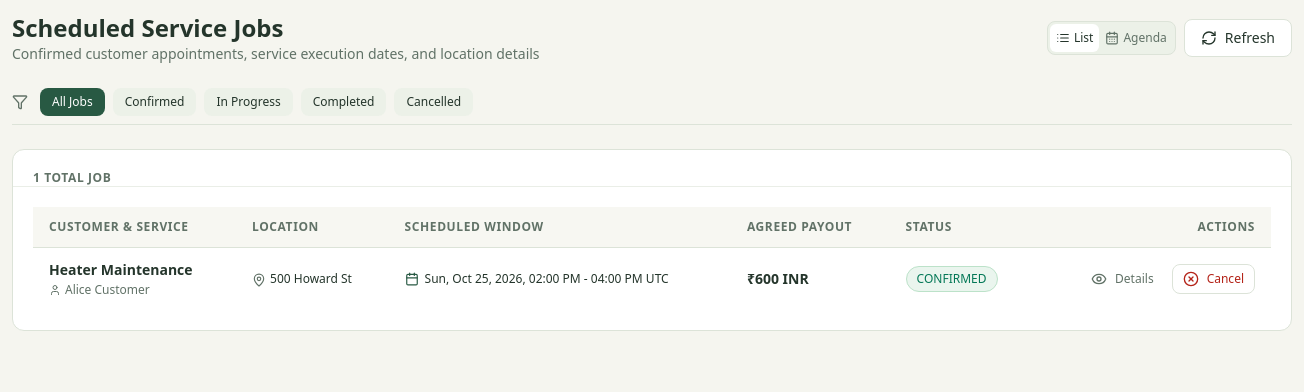
it: Milestone 6: Booking & Scheduling Engine Frontend Tests › Provider Bookings Page › renders provider jobs and toggles to agenda view
The width and height of the screenshot is (1304, 392).
Expected: the heading "Scheduled Service Jobs" is shown, left=12, top=11, right=283, bottom=44
Expected: the text "Heater Maintenance" is shown, left=49, top=260, right=193, bottom=279
Note: Switch to Agenda View
Click the button "Agenda" at point(1136, 38), box left=1100, top=24, right=1173, bottom=52
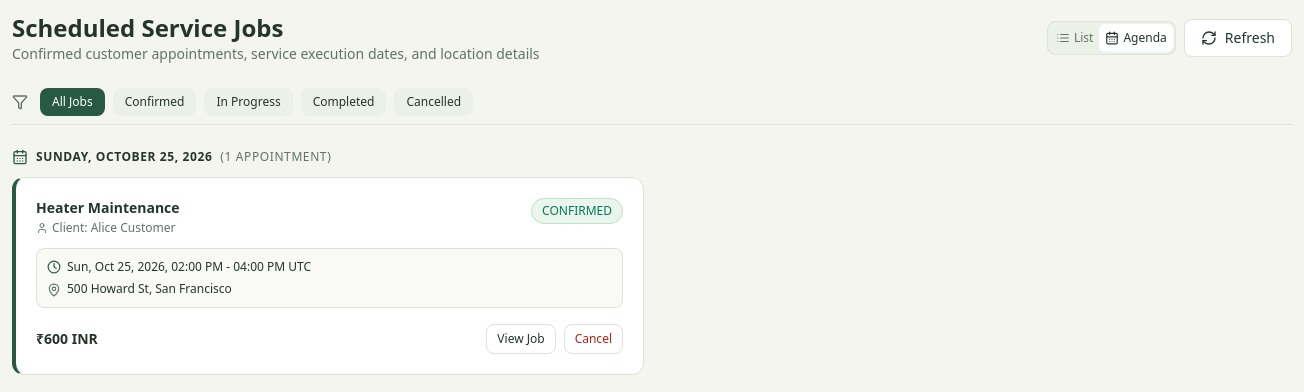
Expected: the text "(1 appointment)" is shown, left=220, top=149, right=331, bottom=165
